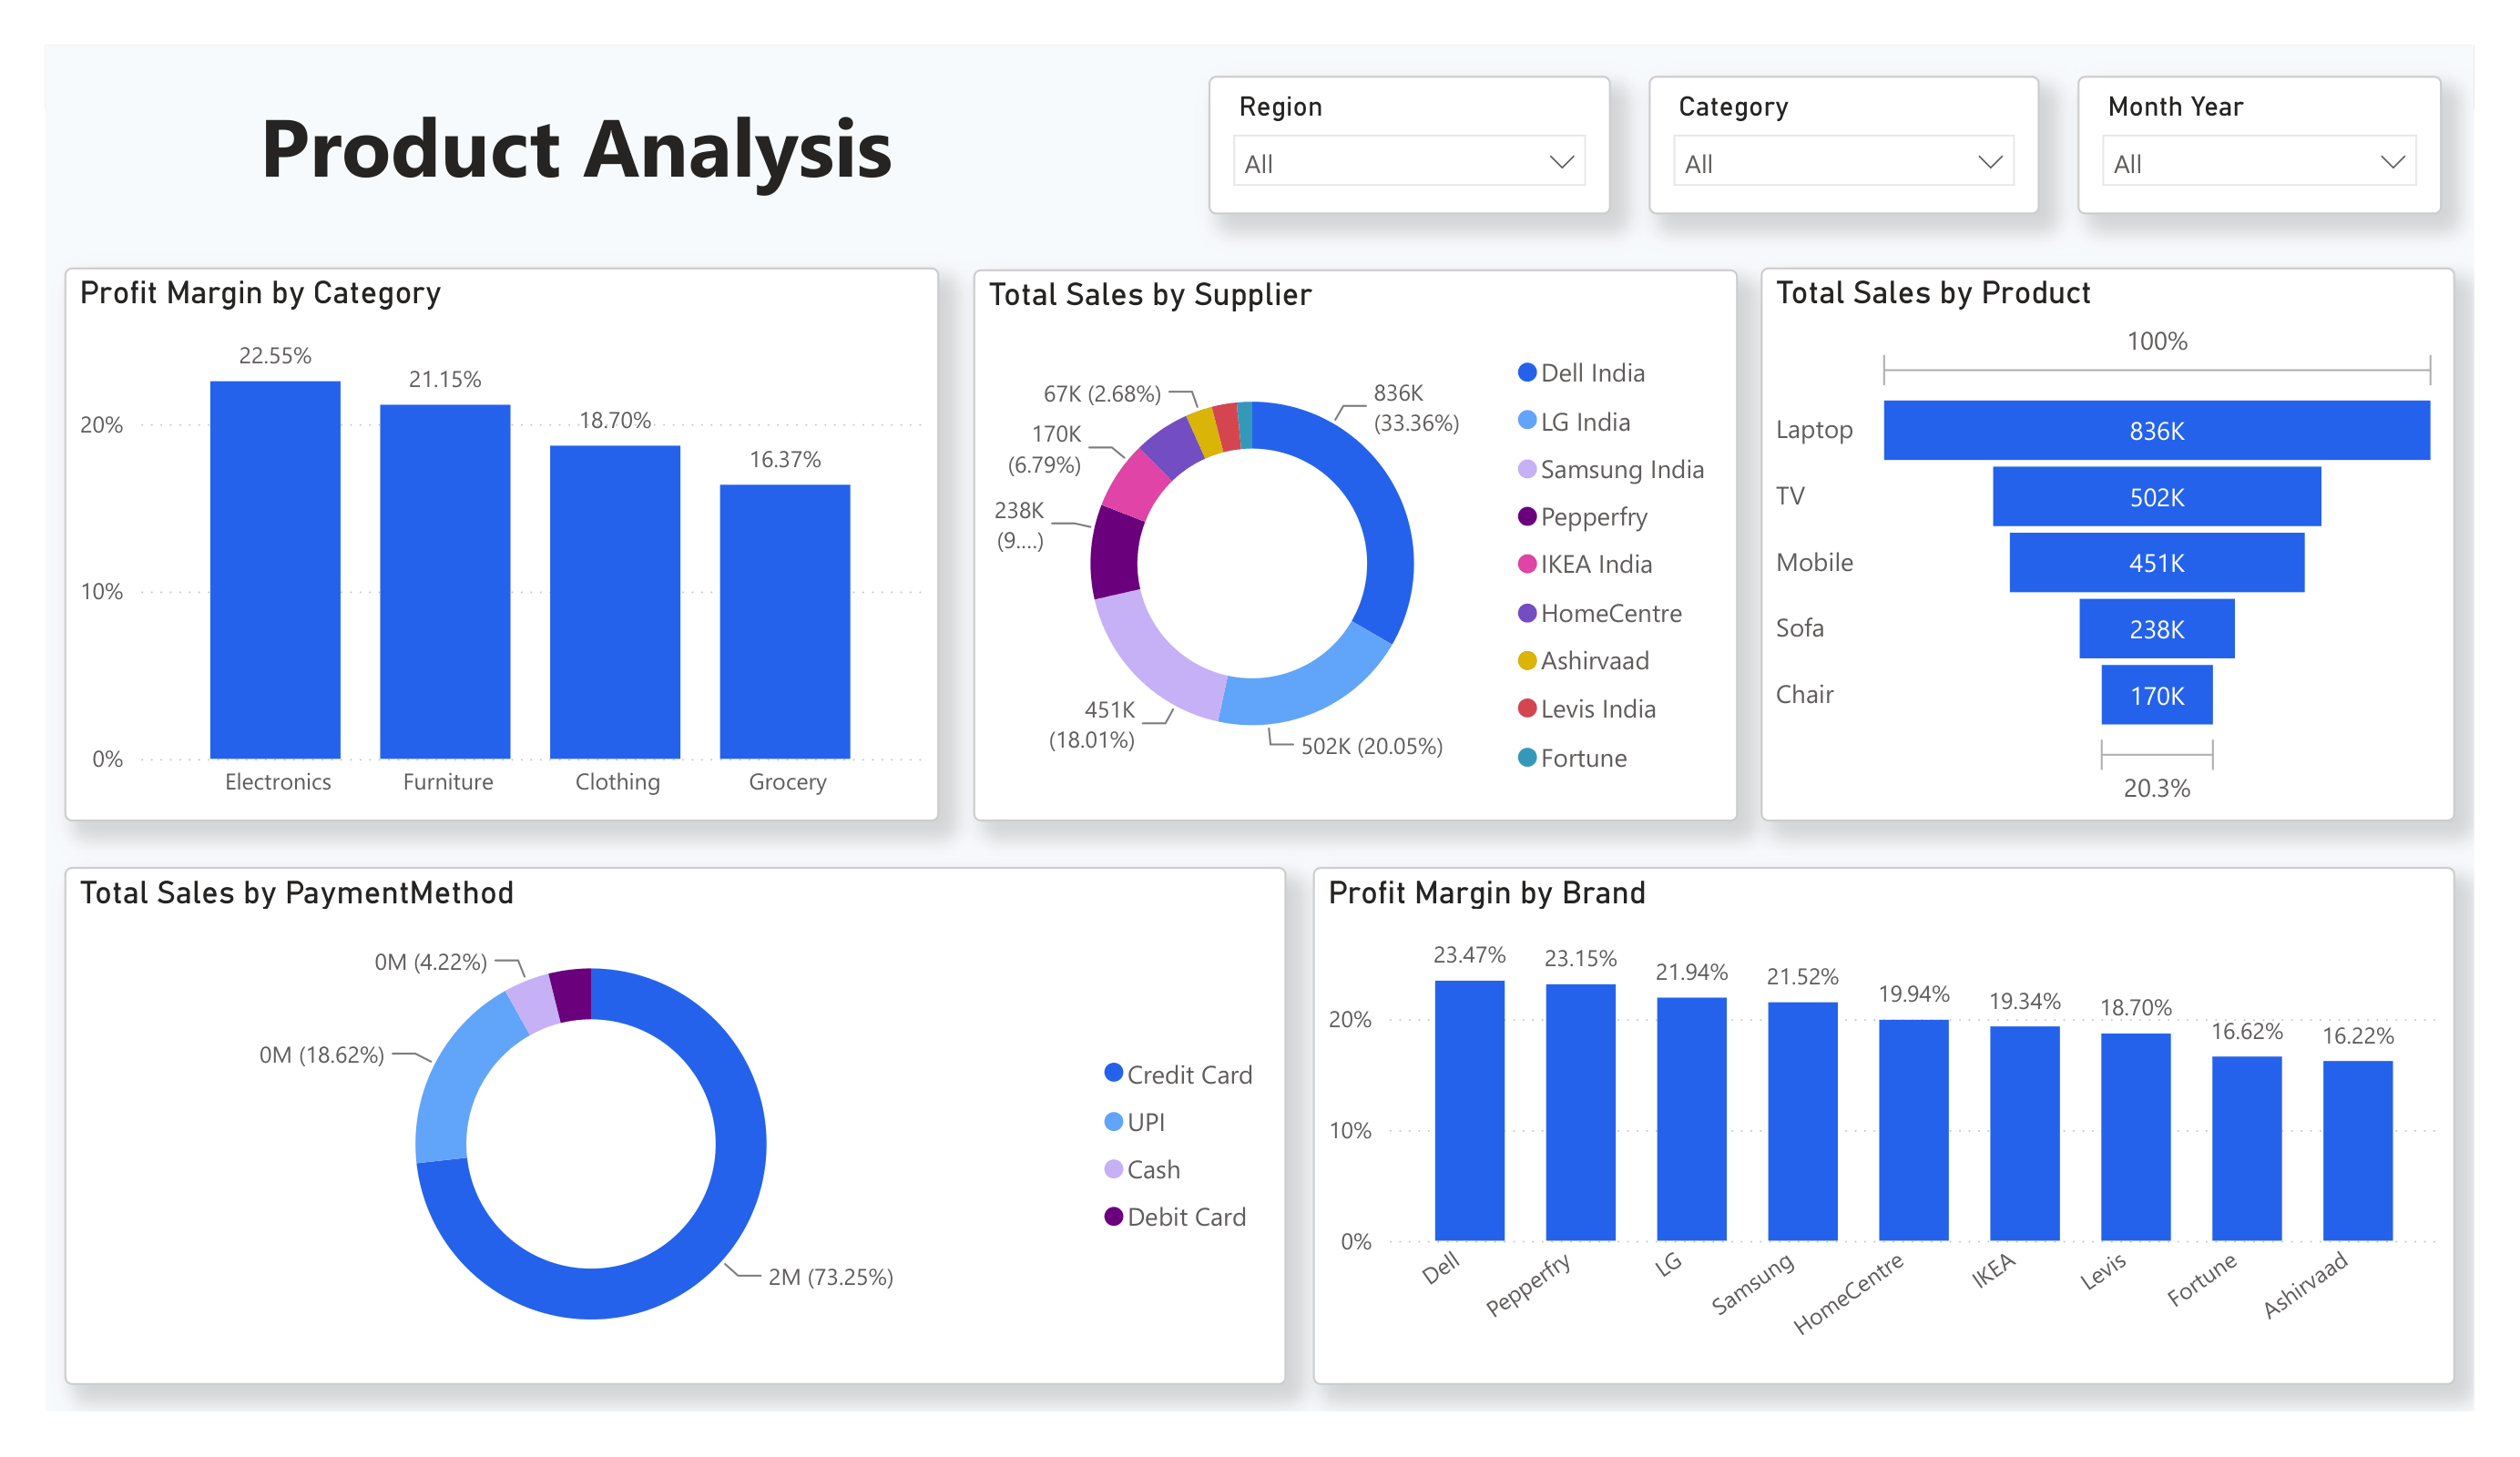

The page's visual inventory and layout, read from the dashboard file:
{"tool":"powerbi","page":{"name":"Product Analysis","canvas":[1280,720],"ordinal":1},"visuals":[{"type":"clusteredColumnChart","fields":{"Category":["PROD_MASTER.Category"],"Y":["Measure.Profit Margin"]},"box":[9.7,116.7,461,292.8],"z":0},{"type":"donutChart","fields":{"Category":["PROD_MASTER.Supplier"],"Y":["Measure.Total Sales"]},"box":[489.2,117.7,402.7,291.8],"z":1000},{"type":"funnel","fields":{"Category":["PROD_MASTER.Product"],"Y":["Measure.Total Sales"]},"box":[903.6,116.7,366.7,292.8],"z":2000},{"type":"donutChart","fields":{"Y":["Measure.Total Sales"],"Category":["SALES.PaymentMethod"]},"box":[9.7,432.8,643.9,273.3],"z":3000},{"type":"clusteredColumnChart","fields":{"Category":["PROD_MASTER.Brand"],"Y":["Measure.Profit Margin"]},"box":[668.2,432.8,602.1,273.3],"z":4000},{"type":"slicer","fields":{"Values":["DateTable.Month Year"]},"box":[1070.9,15.6,192.6,73.9],"z":5000},{"type":"slicer","fields":{"Values":["PROD_MASTER.Category"]},"box":[844.7,15.6,206.2,73.9],"z":6000},{"type":"slicer","fields":{"Values":["CUST_MASTER.Region"]},"box":[612.8,15.6,212,73.9],"z":7000},{"type":"textbox","box":[108,18.5,373.5,67.1],"z":8000}]}

Visuals, with their boxes on the page's 1280x720 design canvas (x1, y1, x2, y2). These are canvas units, not pixel positions in the 2520x1457 screenshot, which may show the page scaled, cropped or inside an application window:
clusteredColumnChart - PROD_MASTER.Category x Measure.Profit Margin: x1=10 y1=117 x2=471 y2=410
donutChart - PROD_MASTER.Supplier x Measure.Total Sales: x1=489 y1=118 x2=892 y2=410
funnel - PROD_MASTER.Product x Measure.Total Sales: x1=904 y1=117 x2=1270 y2=410
donutChart - Measure.Total Sales x SALES.PaymentMethod: x1=10 y1=433 x2=654 y2=706
clusteredColumnChart - PROD_MASTER.Brand x Measure.Profit Margin: x1=668 y1=433 x2=1270 y2=706
slicer - DateTable.Month Year: x1=1071 y1=16 x2=1264 y2=90
slicer - PROD_MASTER.Category: x1=845 y1=16 x2=1051 y2=90
slicer - CUST_MASTER.Region: x1=613 y1=16 x2=825 y2=90
textbox: x1=108 y1=18 x2=482 y2=86
